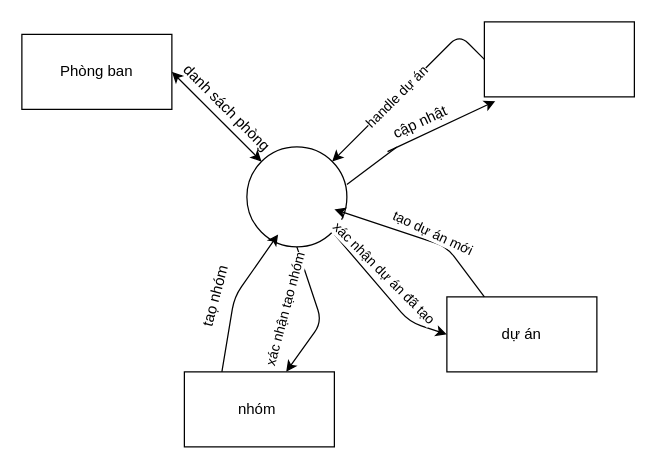
Image size: 656x469. Some labels were removed from this diagram. Each missing label, with the box of its shape:
hệ thống quản lý dự án: (246, 146, 347, 247)
nhân viên: (483, 21, 634, 97)
